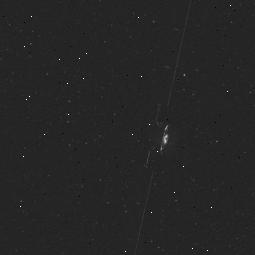smart_1: (140, 60, 188, 206)
